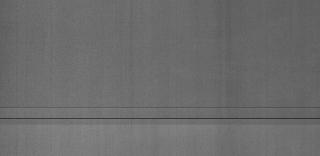welding line: (1, 115, 320, 126), (1, 104, 320, 112)
